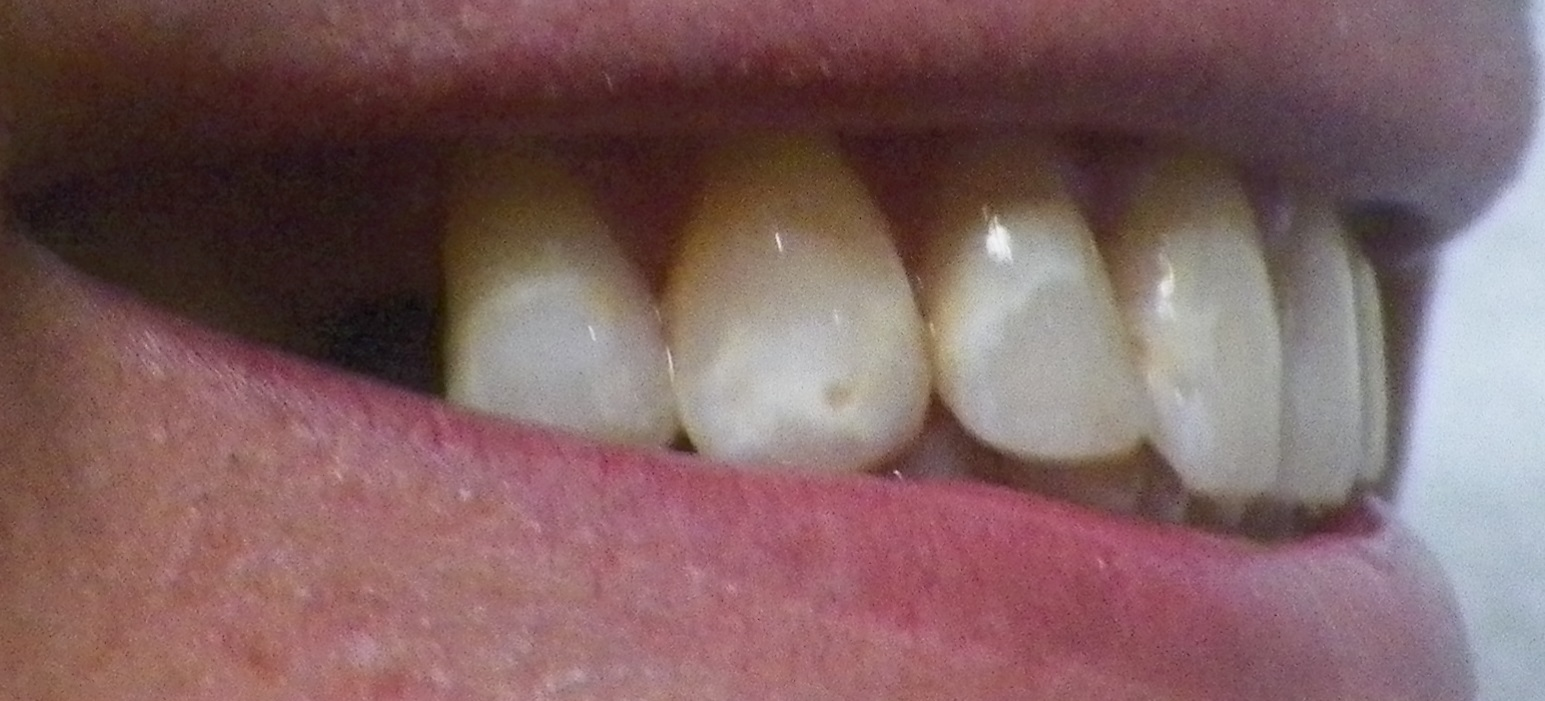boca: (100, 148, 1418, 554)
